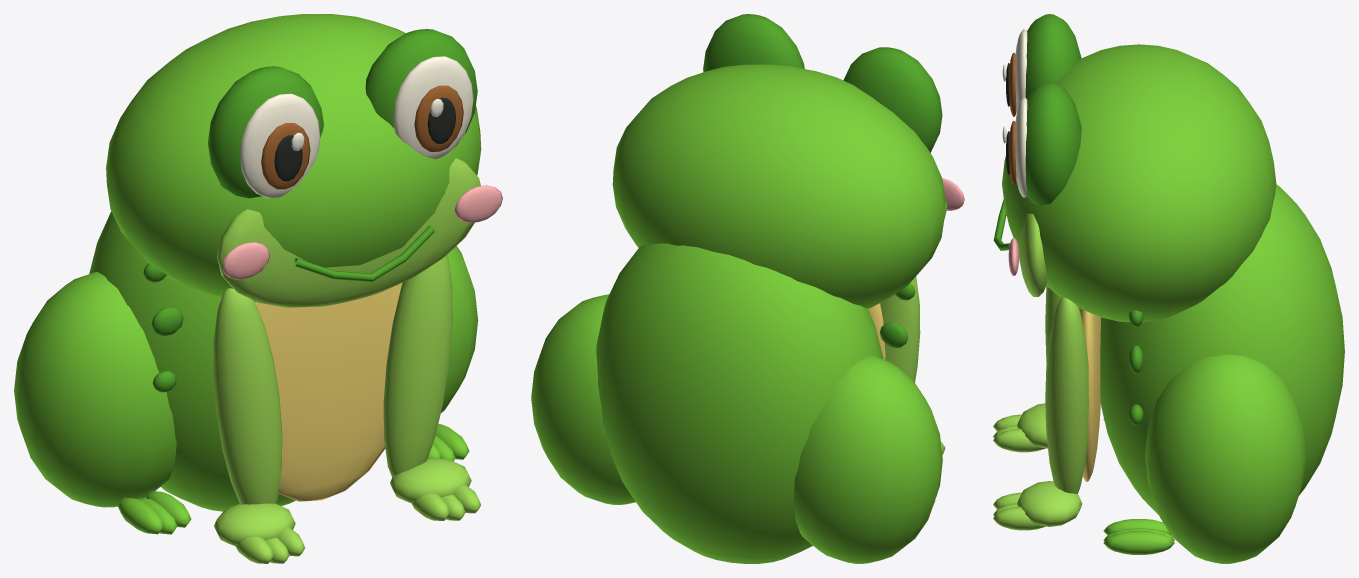
The model's file is frog.glb.
3 views of the same model, side by side, from view 1: azimuth 30°, elevation 25°; view 2: azimuth 150°, elevation 25°; view 3: azimuth 270°, elevation 25° (orthographic). The views are drawn at different scales.
Visible parts, largest first — view 1: frog; view 2: frog; view 3: frog.
Part boxes in pixels (x1,y1,x2,y2): frog: (14,14,502,563); frog: (531,14,964,563); frog: (993,14,1344,563).
Size of the model in its own units: 0.8837 by 1 by 0.6724.
